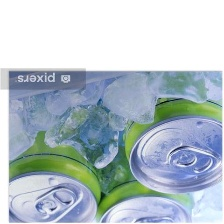can: (123, 90, 223, 196), (9, 126, 102, 224), (95, 188, 194, 223)
